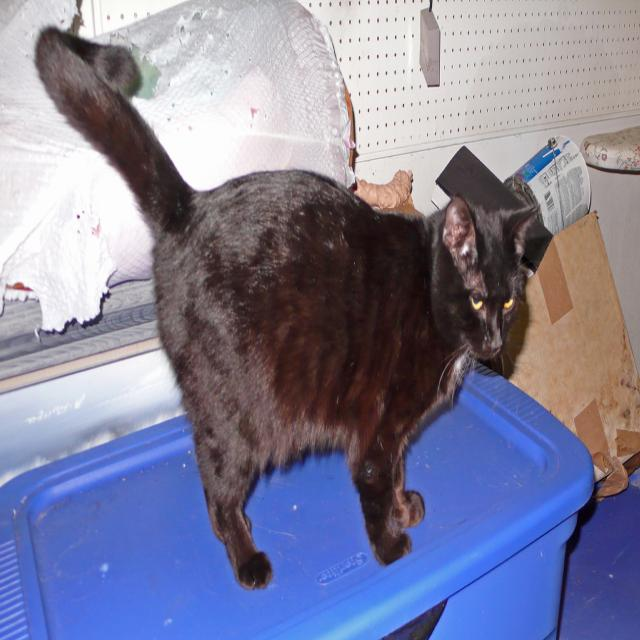Cat: (29, 17, 540, 600)
